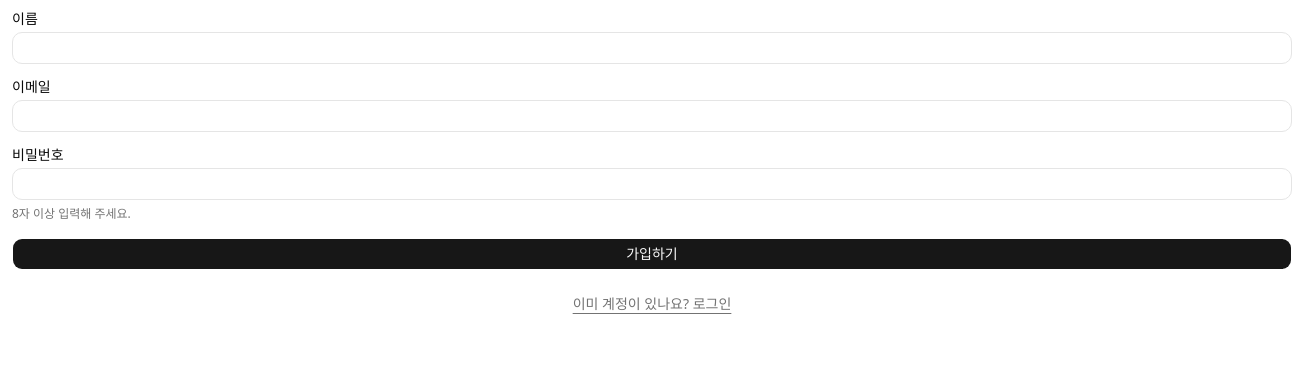
AuthForm signup mode › shows the duplicate email message
The width and height of the screenshot is (1304, 367).
Type "테스트" into the field labelled "이름" at (652, 48), box x1=12 y1=32 x2=1292 y2=64
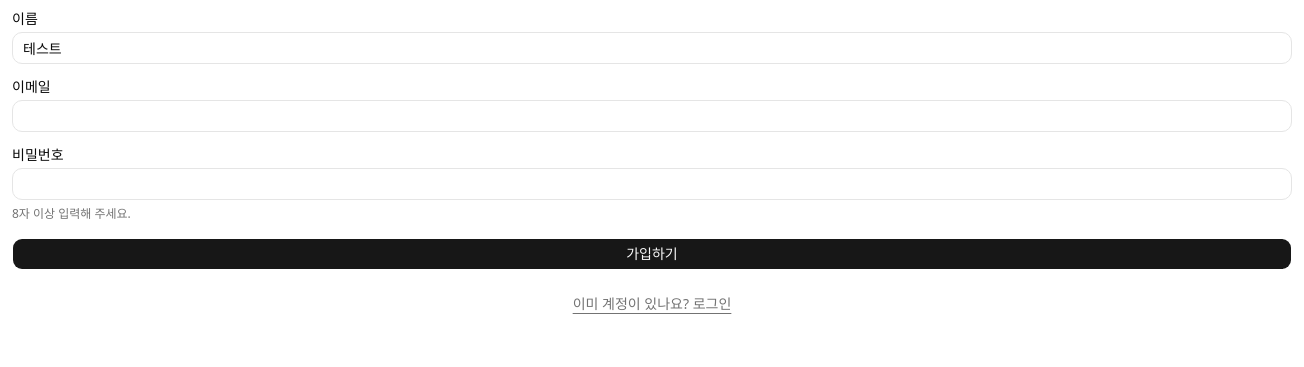
Type "a@test.local" into the field labelled "이메일" at (652, 116), box x1=12 y1=100 x2=1292 y2=132
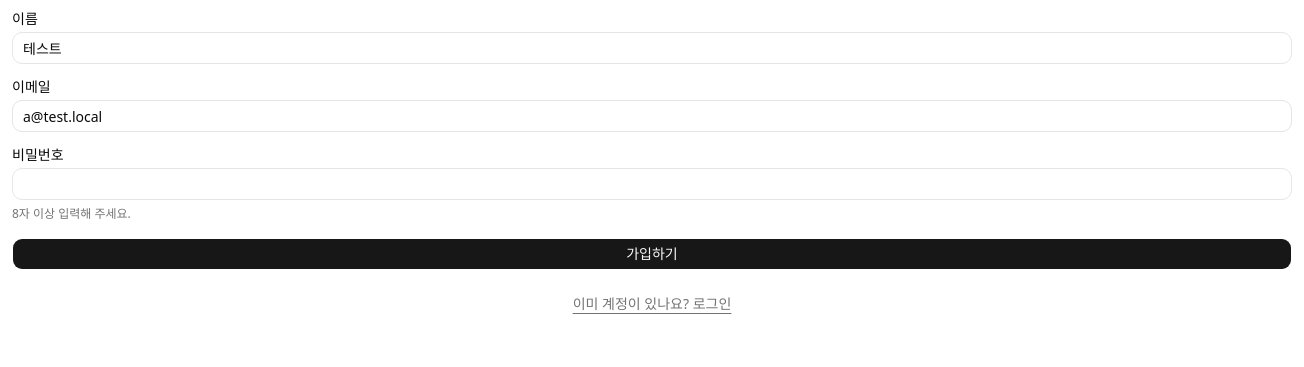
Type "password123" into the password field labelled "비밀번호" at (652, 184), box x1=12 y1=168 x2=1292 y2=200
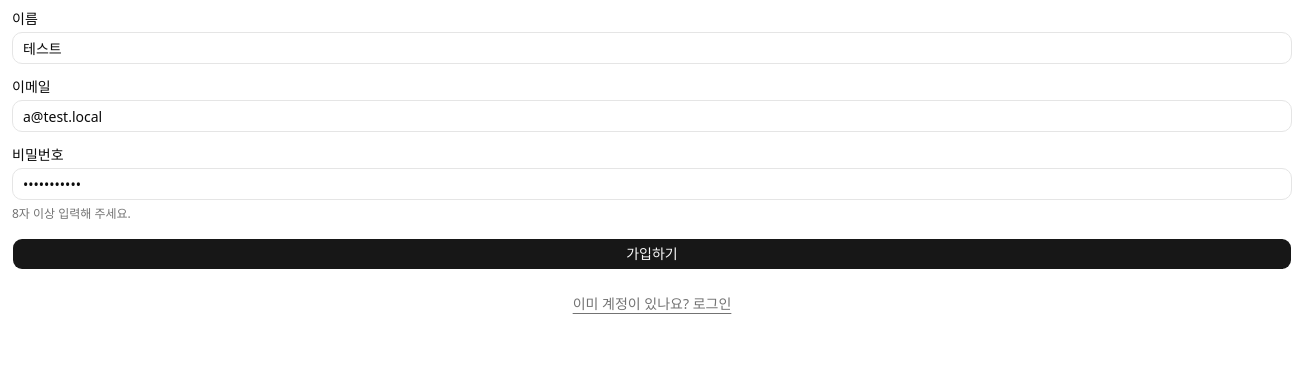
Click the button "가입하기" at (652, 254), box x1=12 y1=238 x2=1292 y2=270
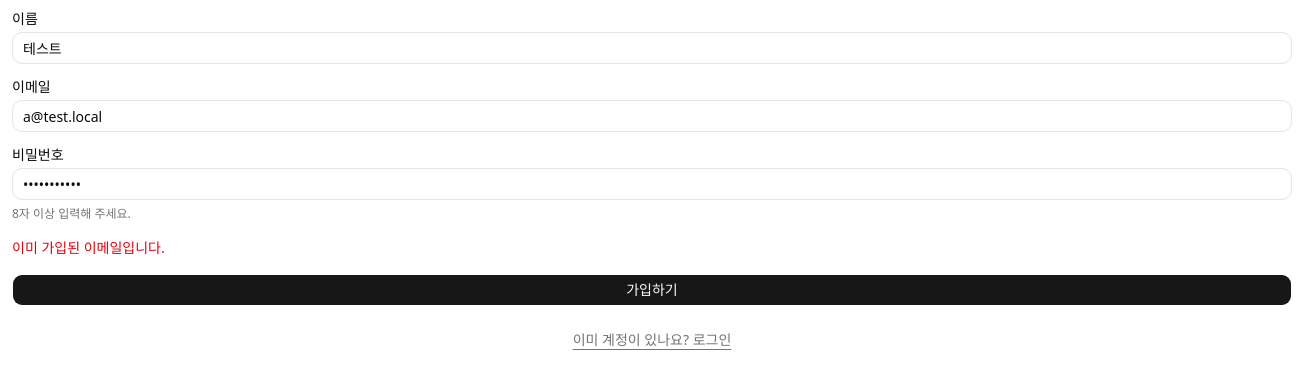
Check: the text "이미 가입된 이메일입니다." is shown, box x1=12 y1=238 x2=165 y2=257
